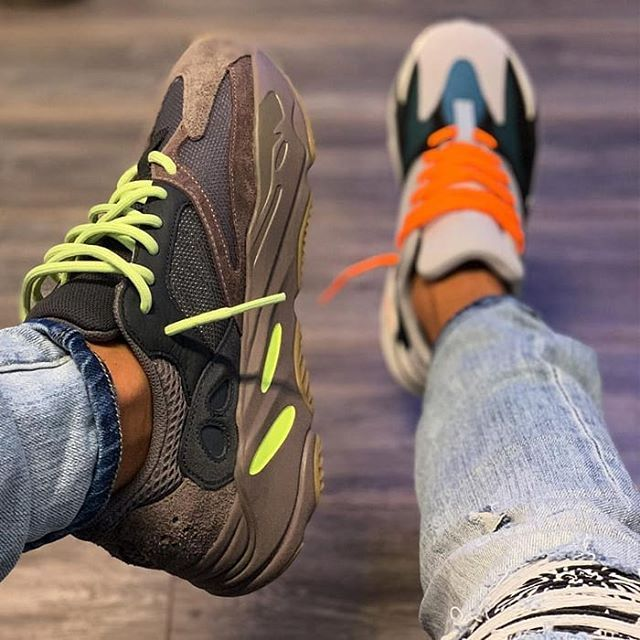adidas Yeezy 700 Mauve: (11, 1, 332, 610)
